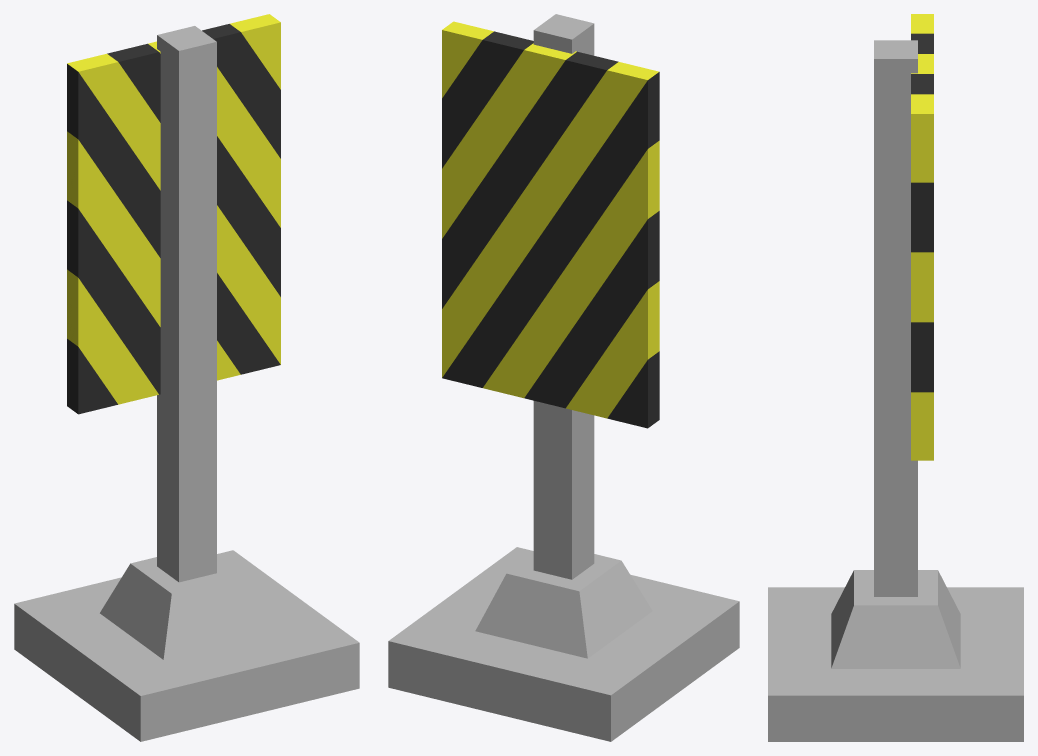
File: SM_ConstructSign_01.FBX
3 views of the same model, side by side, from view 1: azimuth 30°, elevation 25°; view 2: azimuth 150°, elevation 25°; view 3: azimuth 270°, elevation 25° (orthographic).
Visible parts, largest first — view 1: SM_ConstructSign_01; view 2: SM_ConstructSign_01; view 3: SM_ConstructSign_01.
Boxes of the visible parts, left/top/right/bottom form: SM_ConstructSign_01: left=14, top=14, right=359, bottom=741; SM_ConstructSign_01: left=388, top=14, right=739, bottom=741; SM_ConstructSign_01: left=768, top=14, right=1023, bottom=741.
Bounding box in the file's own units: 0.5 × 1.38 × 0.5.
1 material, 1 textured.
